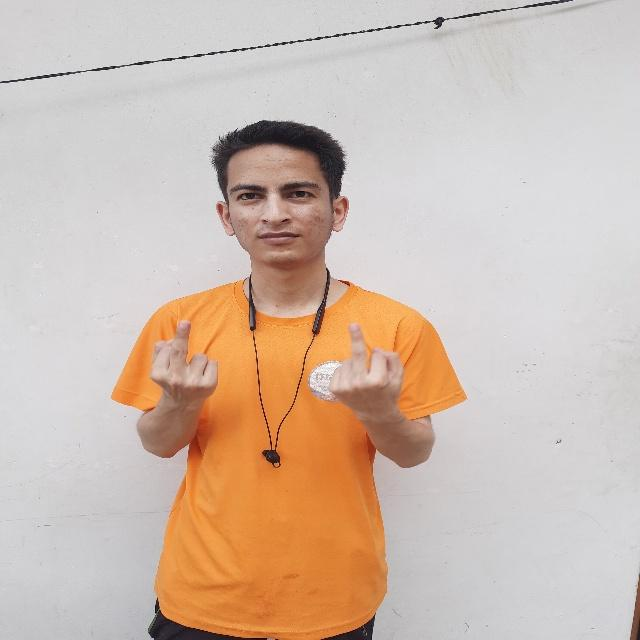Middle Finger: (318, 318, 410, 424), (144, 312, 225, 417)
